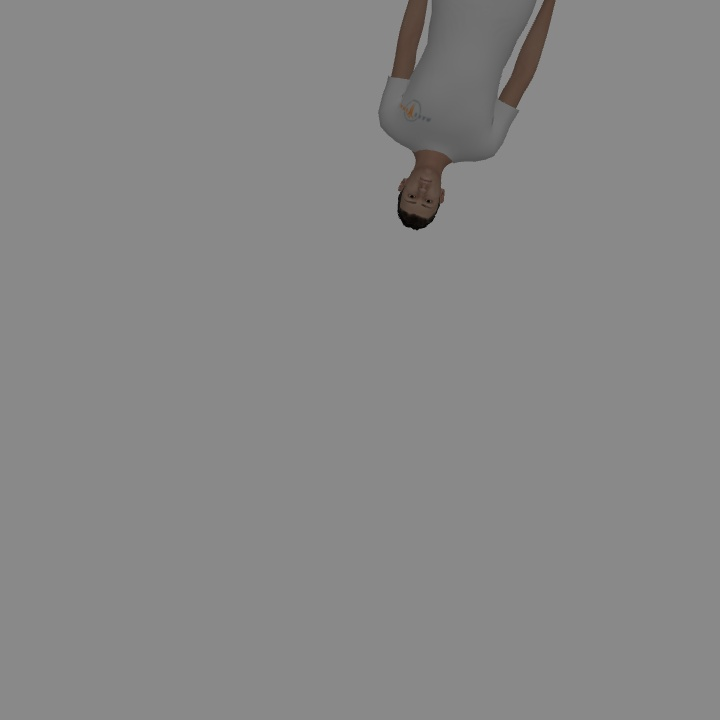victim: (381, 1, 556, 230)
